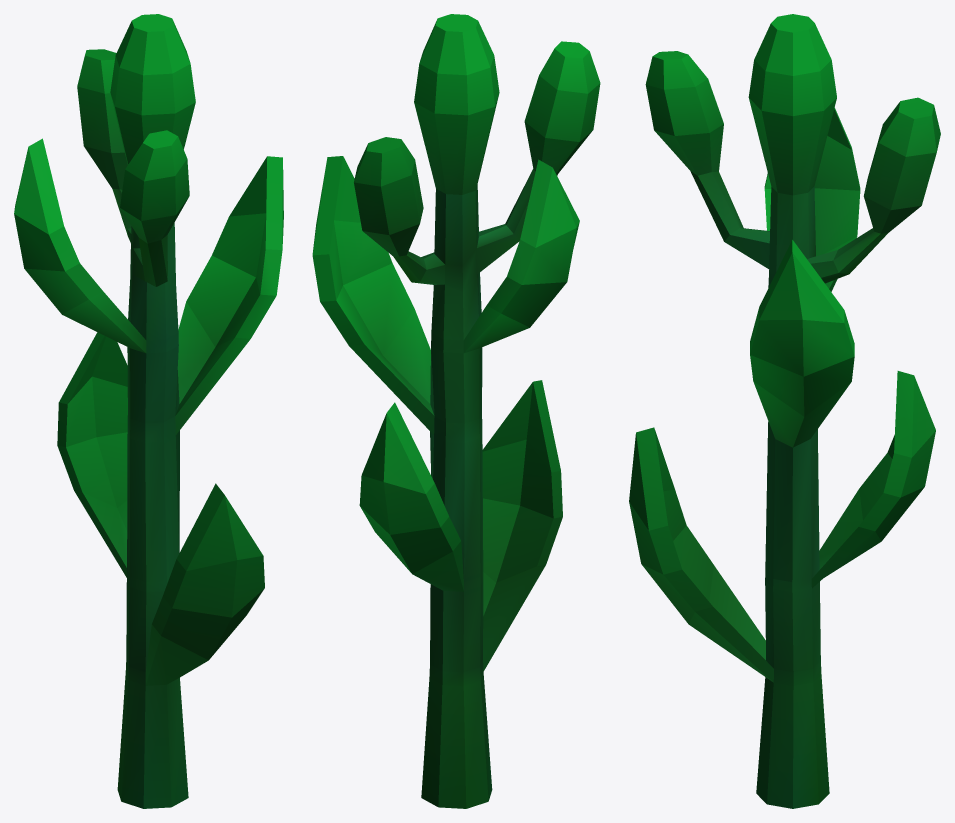
File: lilia1.1.glb
The picture shows the model from 3 angles, left to right: view 1: azimuth 30°, elevation 25°; view 2: azimuth 150°, elevation 25°; view 3: azimuth 270°, elevation 25°; orthographic projection.
Visible parts, largest first — view 1: lilia1.1; view 2: lilia1.1; view 3: lilia1.1.
Boxes of the visible parts, x1,y1,x2,y2 form: lilia1.1: [14, 14, 283, 808]; lilia1.1: [312, 14, 600, 808]; lilia1.1: [629, 14, 940, 808].
Size of the model in its own units: 0.1237 by 0.3439 by 0.1262.
